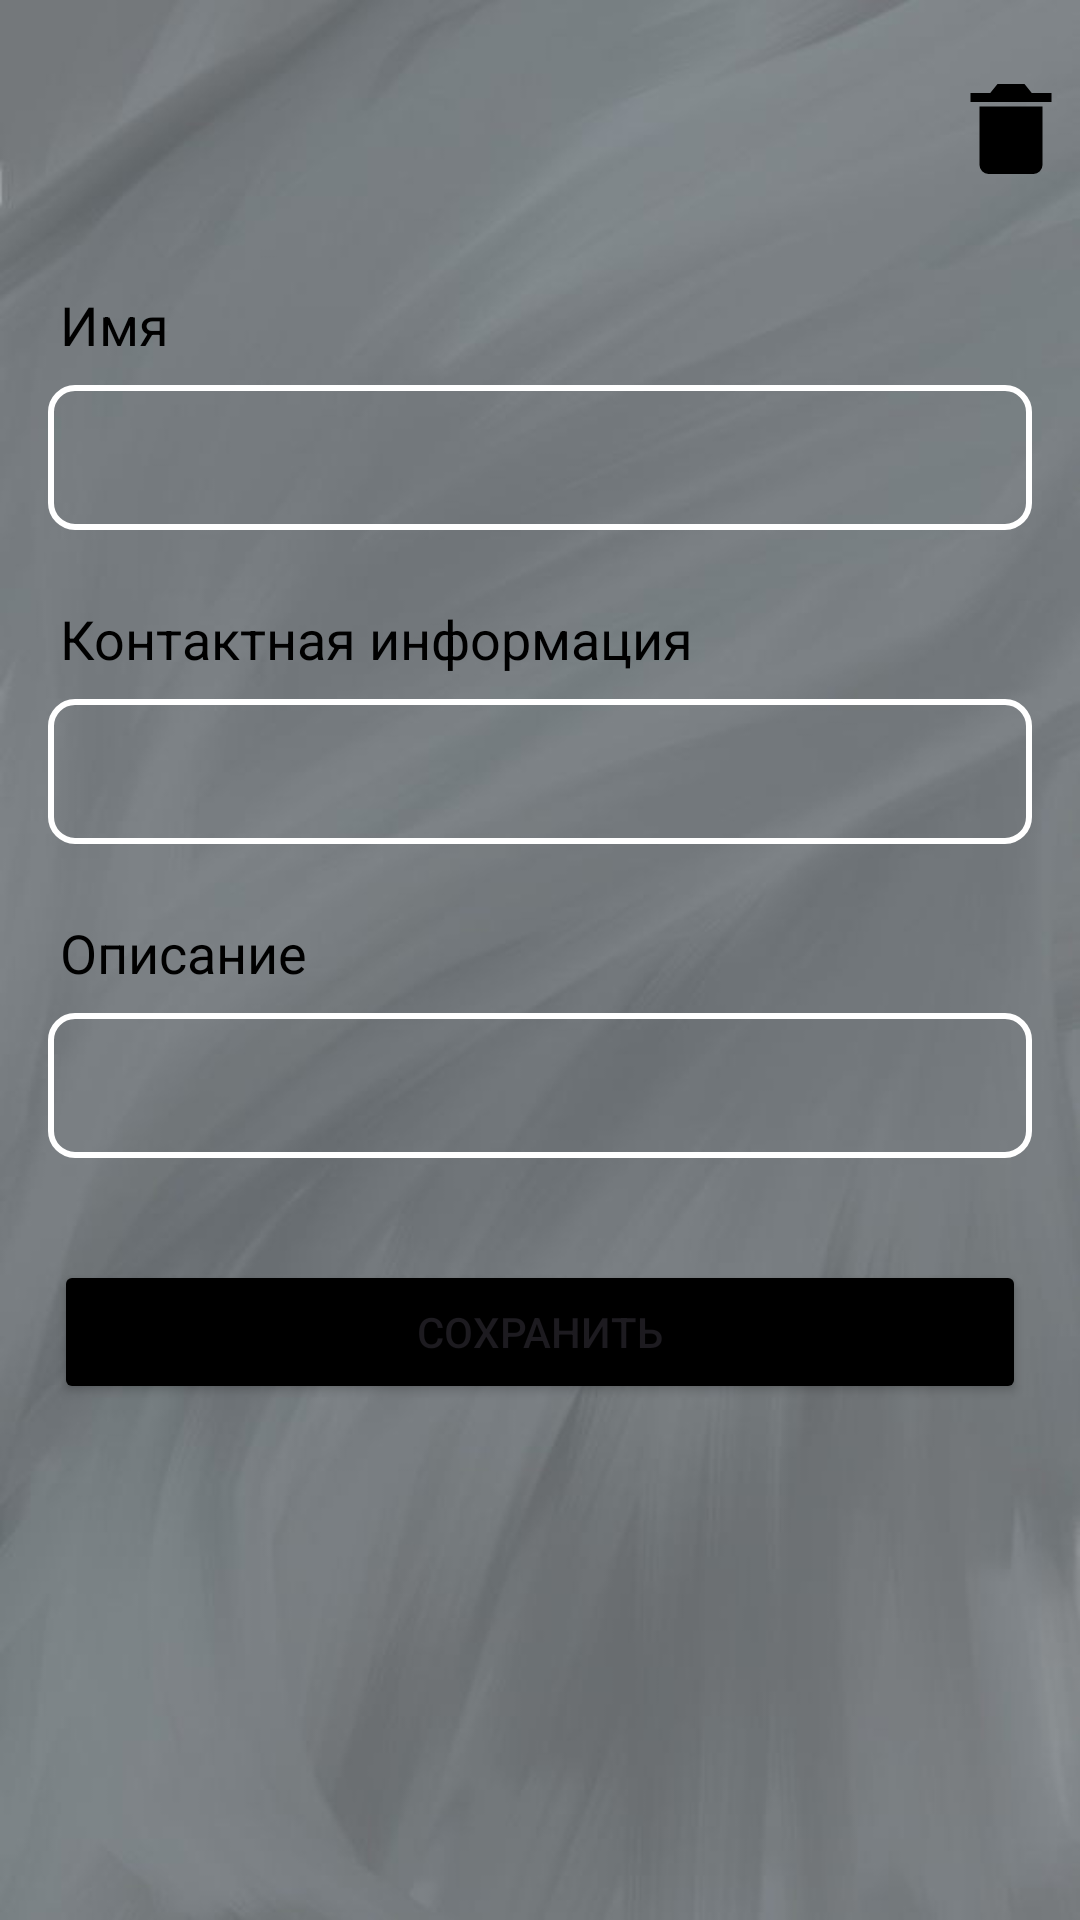

Where to tap for icons on this 1080×1920 app screen, as (x,y):
delete button: (1011,129)
